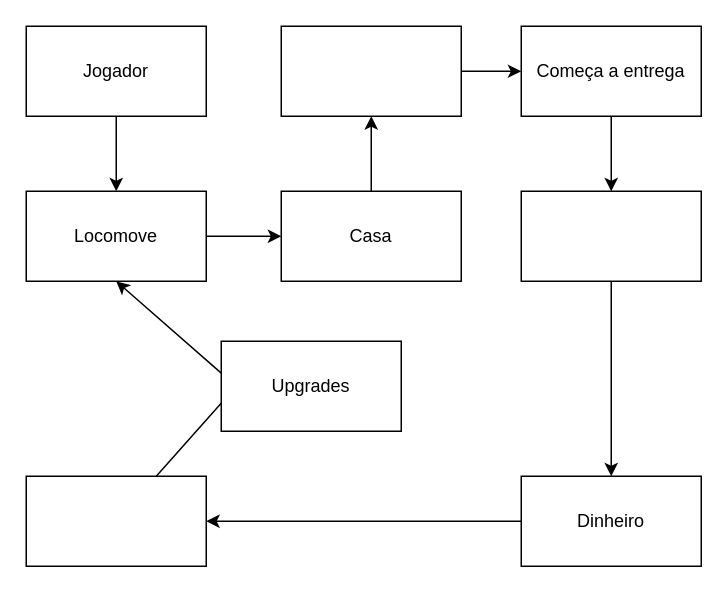
This 728x593 diagram has some shape labels left out. Each missing label, with the centre of its shape:
"Entrega" goes at (610,235).
"Loja" goes at (115,520).
"Salada de fruta" goes at (370,70).
